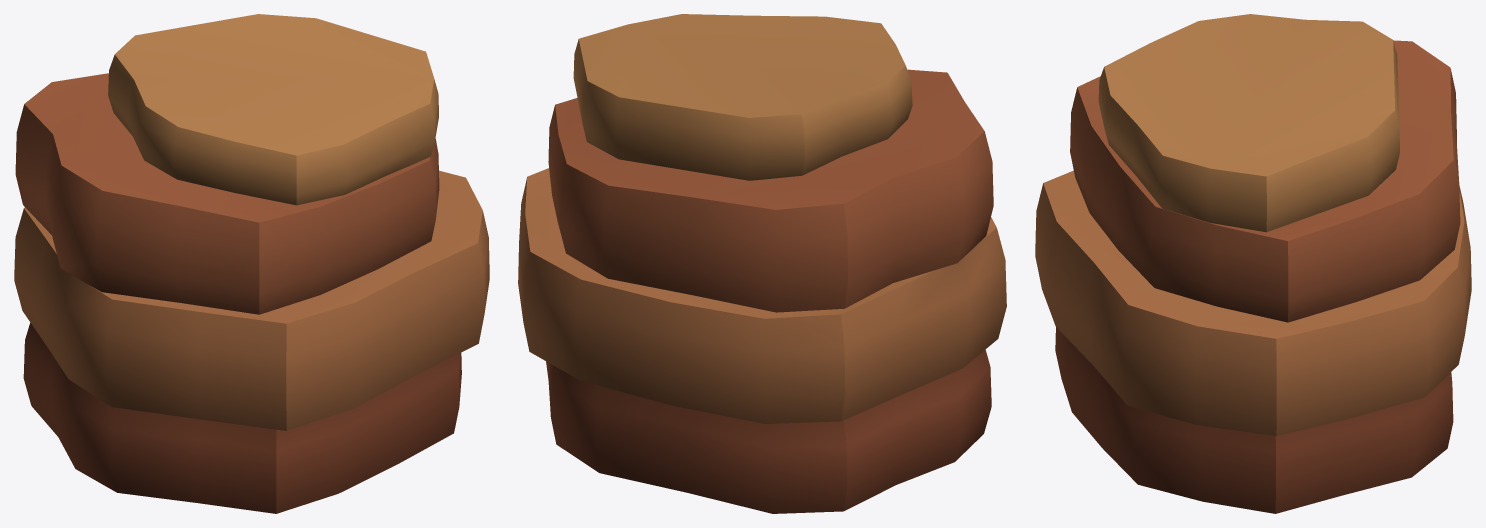
Rendered from desert_rock_b.glb.
3 views of the same model, side by side, from view 1: azimuth 30°, elevation 25°; view 2: azimuth 150°, elevation 25°; view 3: azimuth 270°, elevation 25° (orthographic). The views are drawn at different scales.
Parts seen in each view (by area): view 1: desert_rock_b; view 2: desert_rock_b; view 3: desert_rock_b.
Part boxes in pixels (box(x1,y1,x2,y2)): desert_rock_b: box(14, 14, 489, 513); desert_rock_b: box(518, 14, 1006, 513); desert_rock_b: box(1035, 14, 1471, 513).
Bounding box in the file's own units: 0.7881 × 0.6268 × 0.7039.
